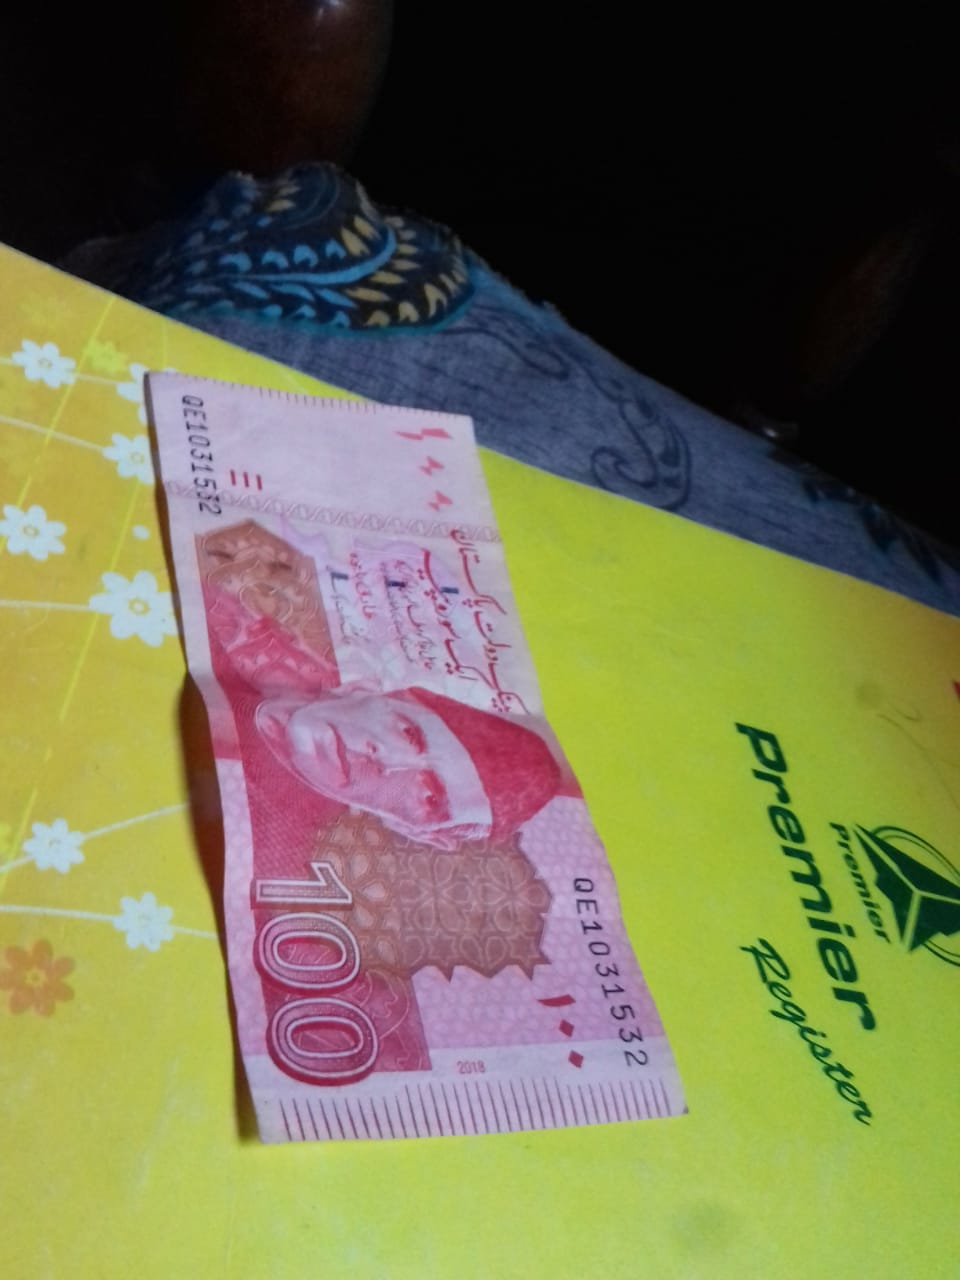100 rupee: (110, 340, 711, 1187)
